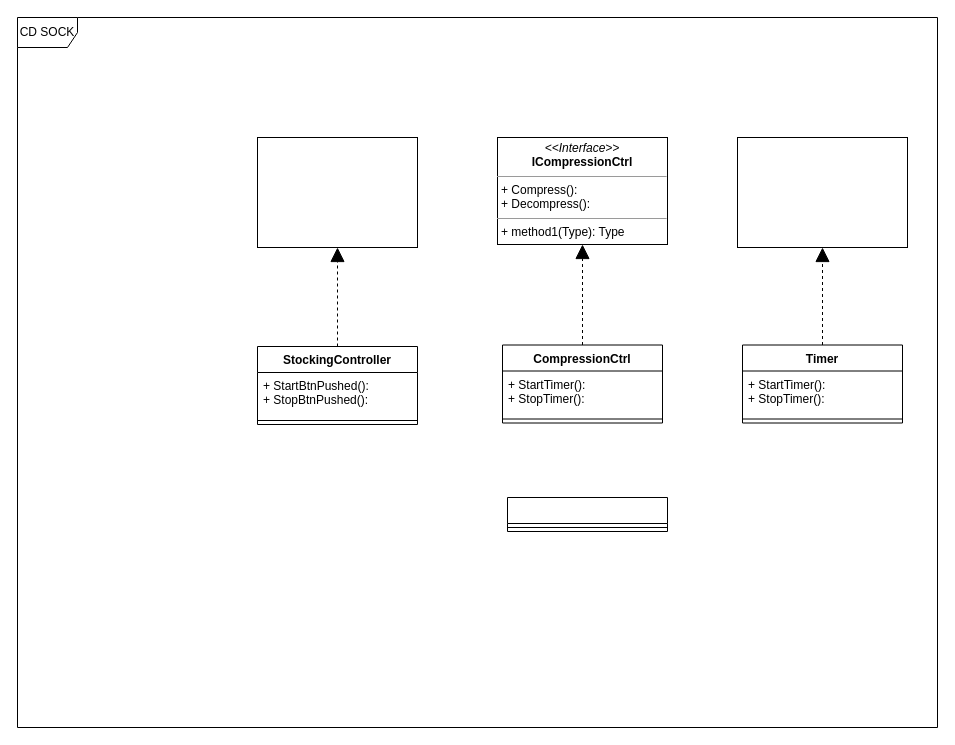
Image size: 955x745. Some labels were removed from this diagram. Here are the shapes that lost their labels. From the top down, the centre of each, then its label:
point (337, 192): <<Interface>> IBtnHandler + StartBtnPushed(): + StopBtnPushed():
point (822, 192): <<Interface>> ITimer + StartTimer(): + StopTimer():
point (587, 514): Pump
